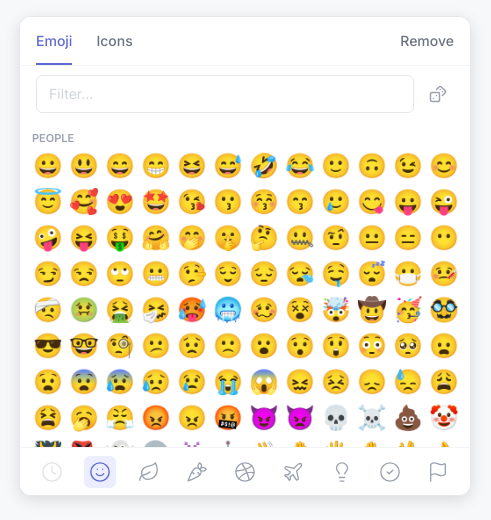
Test: EmojiPicker › Tab switching › should show color bar in Icons tab
Note: Switch to Icons tab
Click the button "Icons" at (115, 41), box [96,17,133,65]
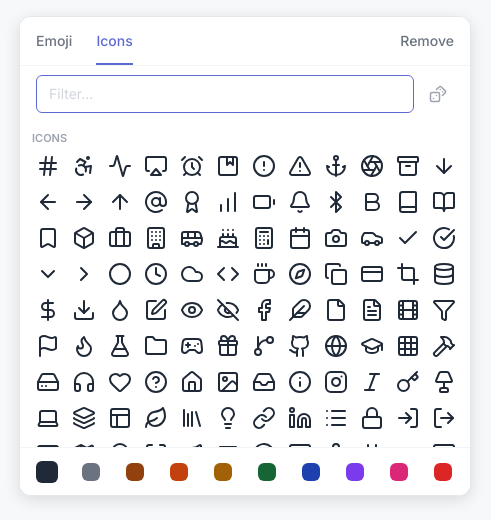
Now the element with class "icon-color-bar" is shown, box [20,447,470,495]
